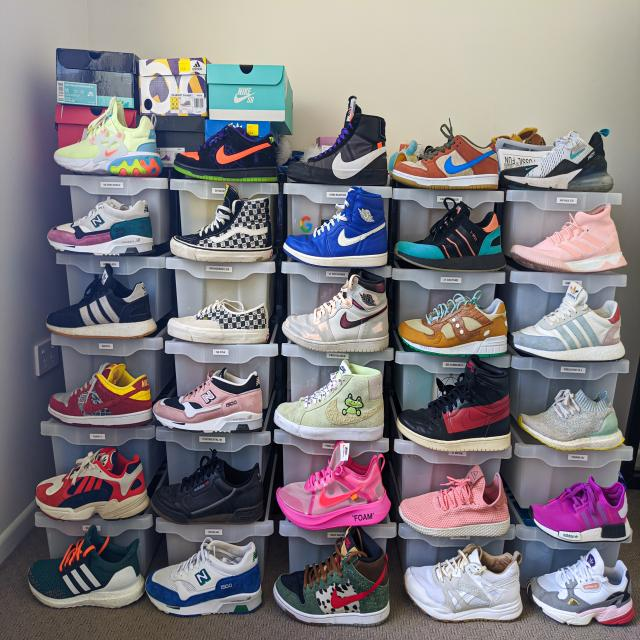shoe: (267, 518, 398, 632), (273, 439, 397, 537), (393, 356, 515, 455), (522, 539, 640, 640), (402, 536, 527, 630), (504, 192, 634, 280), (24, 522, 147, 615), (509, 275, 632, 367), (281, 90, 395, 187), (270, 354, 390, 446), (172, 108, 300, 193), (53, 99, 164, 197), (278, 266, 396, 358), (278, 182, 397, 273), (146, 444, 269, 532), (145, 536, 265, 626), (37, 258, 161, 345), (390, 190, 511, 276), (392, 461, 518, 543), (30, 443, 152, 527), (394, 284, 516, 366), (496, 116, 623, 194), (165, 182, 278, 269), (150, 360, 268, 439), (42, 355, 158, 434), (385, 118, 506, 192), (512, 382, 630, 455), (526, 472, 640, 546), (46, 195, 156, 268), (162, 292, 274, 351)
